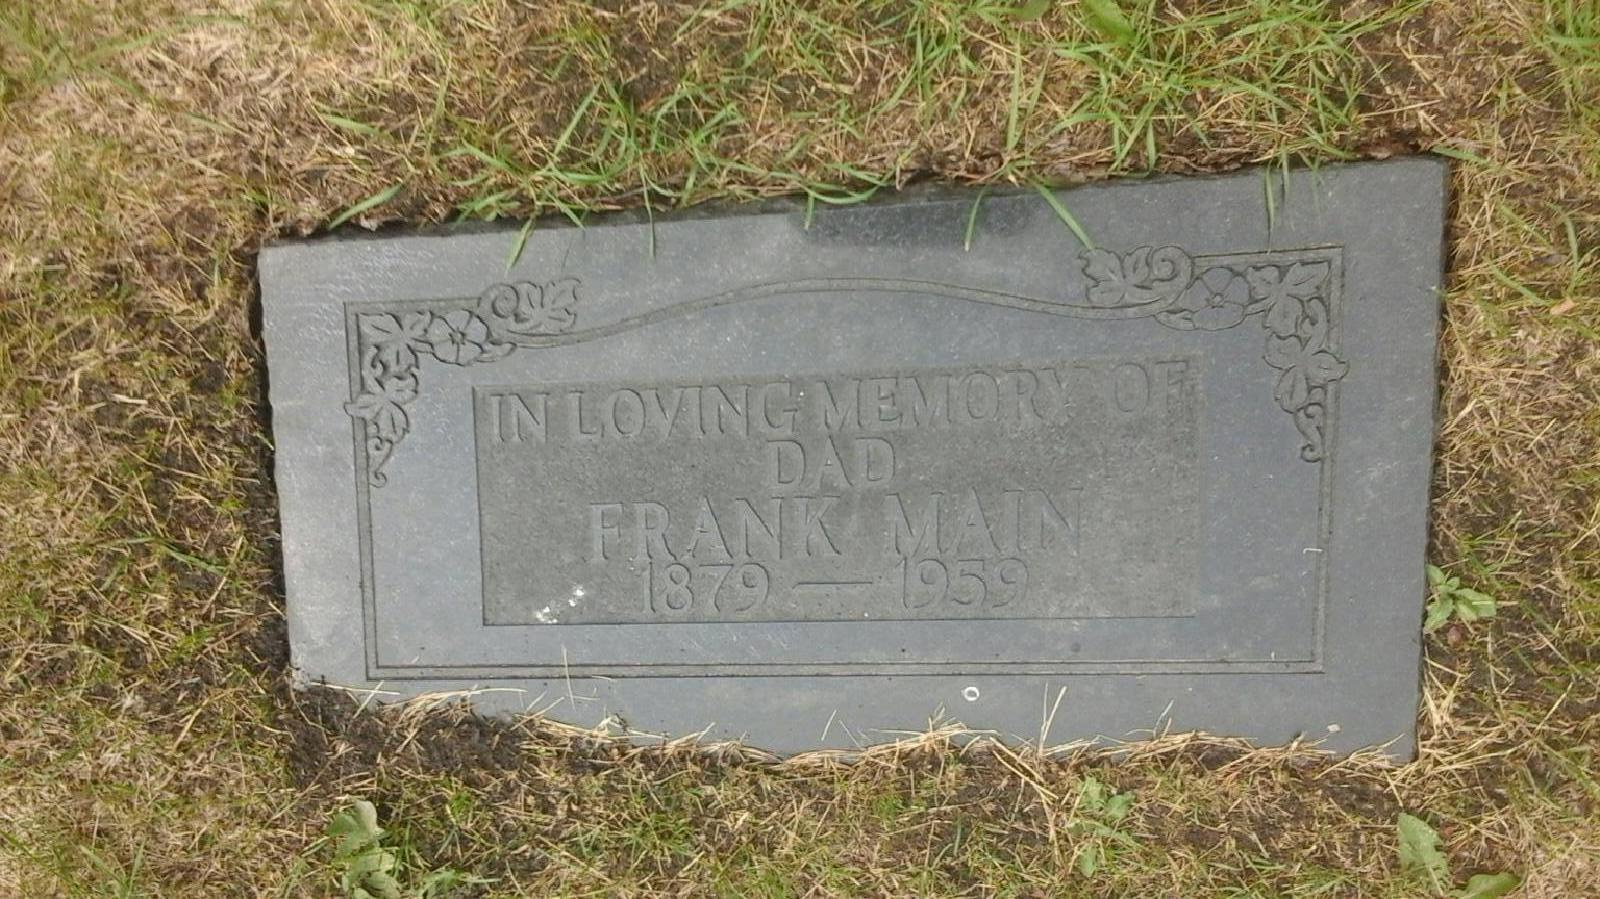flat: (245, 148, 1448, 774)
